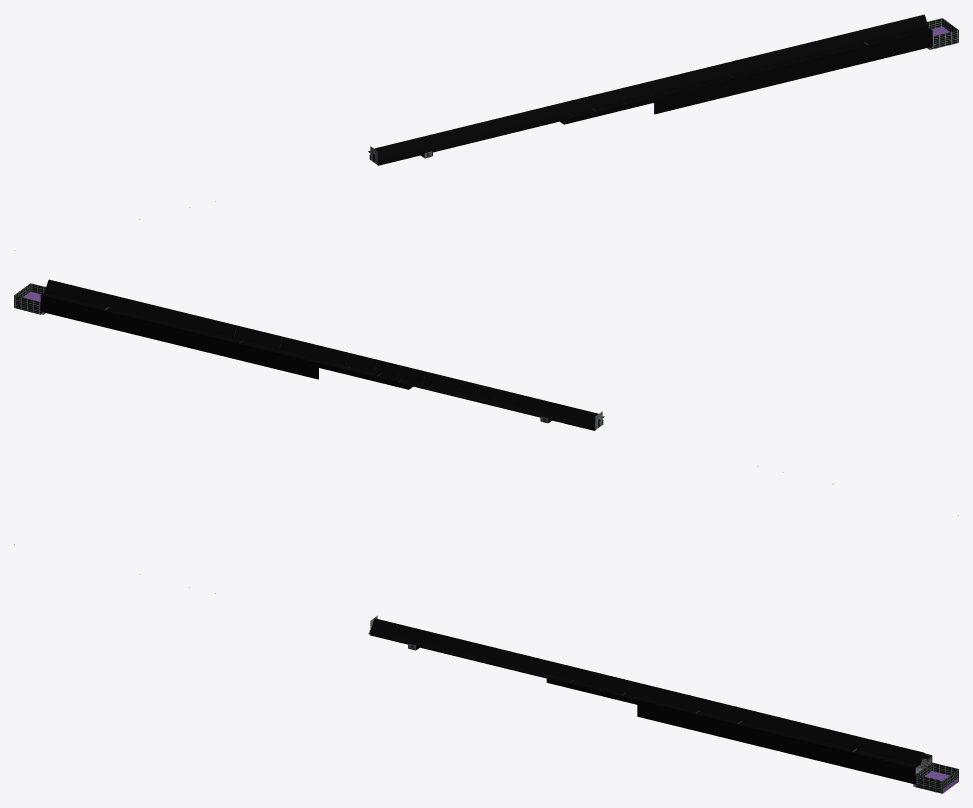
The model's file is map.glb.
The picture shows the model from 3 angles, top to bottom: view 1: azimuth 30°, elevation 25°; view 2: azimuth 150°, elevation 25°; view 3: azimuth 330°, elevation 25°; orthographic projection.
Parts seen in each view (by area): view 1: poteau -col.020, sol16 -col.001; view 2: poteau -col.019, mur15 -col.002; view 3: poteau -col.020, sol16 -col.001, sol16 -col.002.
Boxes of the visible parts, x1,y1,x2,y2 form: poteau -col.020: [374, 14, 930, 162]; sol16 -col.001: [654, 26, 956, 114]; poteau -col.019: [42, 279, 597, 428]; mur15 -col.002: [40, 294, 318, 379]; poteau -col.020: [368, 618, 923, 767]; sol16 -col.001: [637, 699, 958, 793]; sol16 -col.002: [915, 762, 958, 793].
Bounding box in the file's own units: 3991 × 119 × 127.
197 materials, 145 textured.
